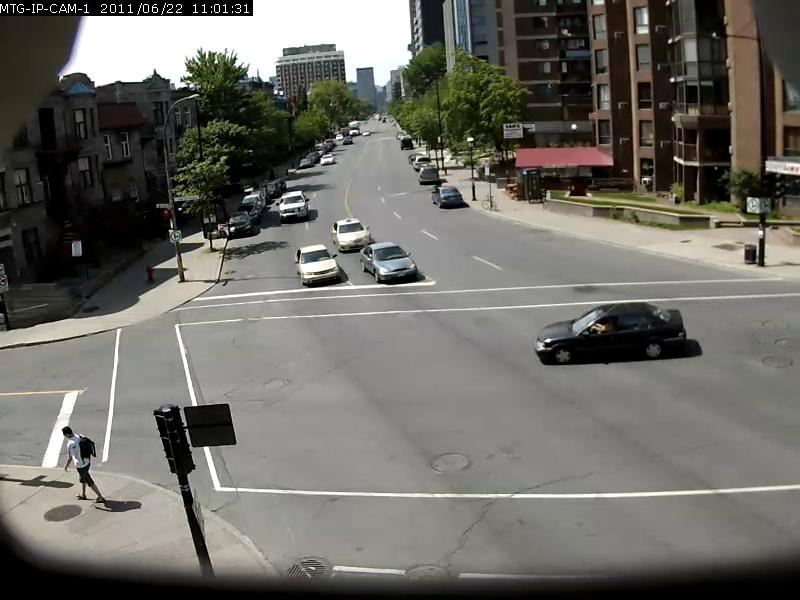car: (534, 302, 687, 365), (359, 242, 418, 283), (294, 244, 340, 287), (332, 218, 371, 252), (277, 190, 310, 222)
